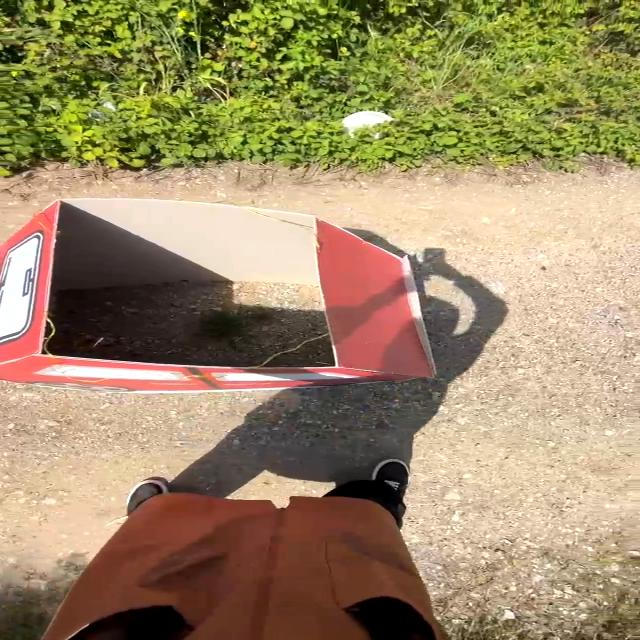red_car: (0, 184, 503, 427)
